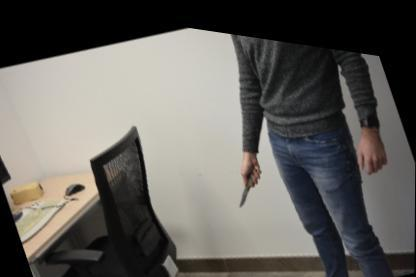knife: (224, 150, 272, 204)
